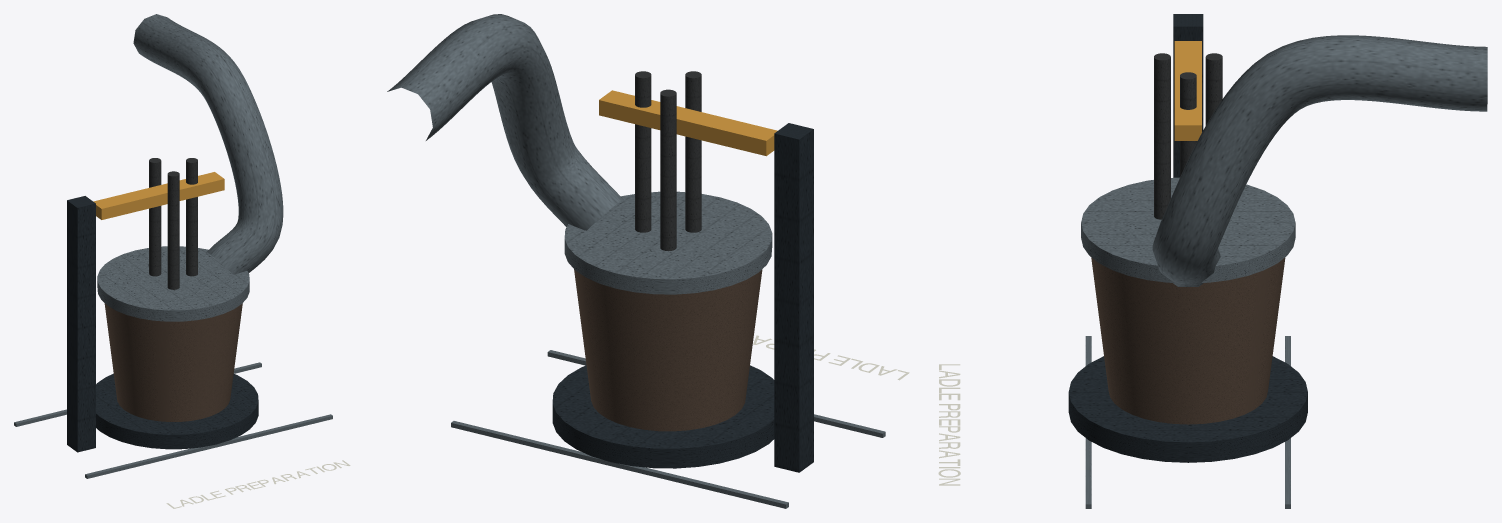
Rendered from steel-refining.cf1d0d55694f.glb.
3 renders of one model, left to right at view 1: azimuth 30°, elevation 25°; view 2: azimuth 150°, elevation 25°; view 3: azimuth 270°, elevation 25°, orthographic. The views are drawn at different scales.
Parts seen in each view (by area): view 1: structure_steel_00015, structure_dark_00013, structure_rust_00014, structure_charcoal_00016, structure_yellow_00017, structure_white_00018; view 2: structure_steel_00015, structure_dark_00013, structure_rust_00014, structure_charcoal_00016, structure_yellow_00017; view 3: structure_steel_00015, structure_rust_00014, structure_dark_00013, structure_charcoal_00016, structure_yellow_00017, structure_white_00018.
Boxes of the visible parts, bbox=[...] form: structure_steel_00015: bbox=[14, 14, 332, 478]; structure_dark_00013: bbox=[67, 196, 258, 452]; structure_rust_00014: bbox=[104, 303, 242, 421]; structure_charcoal_00016: bbox=[149, 158, 197, 289]; structure_yellow_00017: bbox=[93, 172, 224, 219]; structure_white_00018: bbox=[166, 460, 350, 508]; structure_steel_00015: bbox=[387, 14, 885, 508]; structure_dark_00013: bbox=[552, 123, 813, 472]; structure_rust_00014: bbox=[574, 269, 762, 431]; structure_charcoal_00016: bbox=[635, 71, 701, 251]; structure_yellow_00017: bbox=[599, 90, 777, 156]; structure_steel_00015: bbox=[1081, 35, 1487, 508]; structure_rust_00014: bbox=[1091, 257, 1285, 424]; structure_dark_00013: bbox=[1068, 14, 1307, 462]; structure_charcoal_00016: bbox=[1154, 53, 1222, 219]; structure_yellow_00017: bbox=[1174, 41, 1201, 140]; structure_white_00018: bbox=[938, 364, 960, 485].
Size of the model in its own units: 8 by 9.9 by 11.01.
6 materials, 4 textured.
